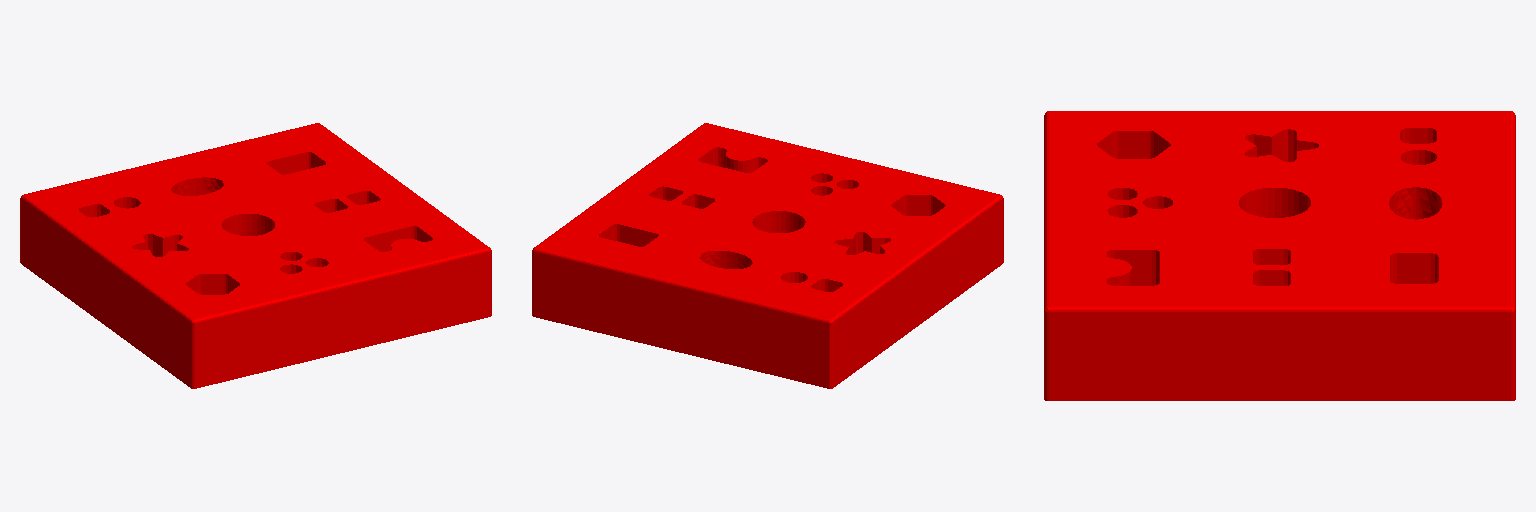
robot.urdf — Small_Board_Red:
<?xml version="1.0"?>
<robot name="Small_Board_Red">
    <link name="Small_Board_Red">
        <visual>
            <origin xyz="0 0 10" rpy="0 0 0" />
            <geometry>
                <mesh filename="../mesh/factory_insertion/Small_Board_Red.obj" scale="0.001 0.001 0.001"/>
            </geometry>
            <material name="Red">
              <color rgba="1.0 0 0 0"/>
            </material>
        </visual>
        <collision>
            <geometry>
                <mesh filename="../mesh/factory_insertion/Small_Board_Red.obj" scale="0.001 0.001 0.001"/>
            </geometry>
            <sdf resolution="512"/>
        </collision>
    </link>
    <link name="world" />
    <joint name="world_joint"  type="fixed">
        <origin xyz="0 0 0" rpy="0 0 0" />
        <parent link="world"/>
        <child link="Small_Board_Red"/>
    </joint>
</robot>

--- Facts derived from the render (not from the file) ---
3 views of the same robot in one strip: view 1: azimuth 30°, elevation 25°; view 2: azimuth 150°, elevation 25°; view 3: azimuth 270°, elevation 25° (orthographic).
Robot: Small_Board_Red — 2 links, 1 joints (1 fixed); root link world; default pose: every joint at zero.
Visible links, largest first — view 1: Small_Board_Red; view 2: Small_Board_Red; view 3: Small_Board_Red.
Link boxes in pixels (x1,y1,x2,y2): Small_Board_Red: (20, 123, 491, 388); Small_Board_Red: (532, 123, 1003, 388); Small_Board_Red: (1044, 111, 1515, 400).
Bounding box of the posed robot: 0.23 × 0.23 × 0.05 m (x, y, z).
Meshes: 1 distinct files referenced, 1 mesh visuals loaded (1 OBJ).
